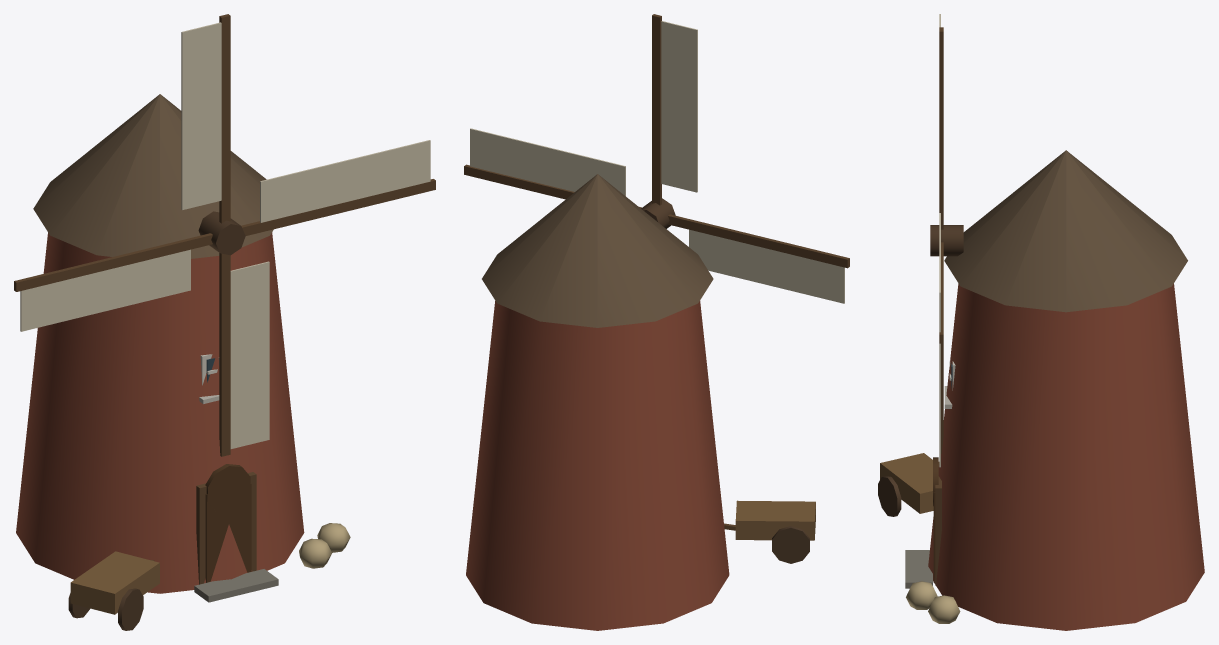
The model's file is procedural_windmill@6.glb.
3 renders of one model, left to right at view 1: azimuth 30°, elevation 25°; view 2: azimuth 150°, elevation 25°; view 3: azimuth 270°, elevation 25°, orthographic. The views are drawn at different scales.
Parts seen in each view (by area): view 1: part_0, part_1; view 2: part_0, part_1; view 3: part_0, part_1.
Part boxes in pixels (bbox=[...]): part_0: bbox=[16, 94, 350, 630]; part_1: bbox=[14, 14, 435, 456]; part_0: bbox=[466, 174, 815, 630]; part_1: bbox=[464, 14, 849, 303]; part_0: bbox=[878, 150, 1204, 630]; part_1: bbox=[930, 14, 963, 467].
Size of the model in its own units: 8.4 by 10.8 by 5.89.
